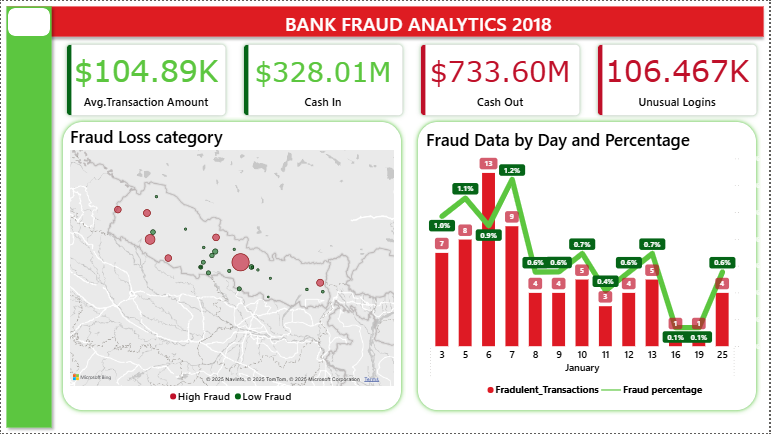

The page's visual inventory and layout, read from the dashboard file:
{"tool":"powerbi","page":{"name":"Customer behaviour","canvas":[1280,720],"ordinal":1},"visuals":[{"type":"cardVisual","fields":{"Data":["Fraud Dataset.Avg.Transaction Amount","Fraud Dataset.Cash In","Fraud Dataset.Cash Out","Sum(Fraud Dataset.unusual_login)"]},"box":[93.3,56.7,1185,150],"z":0},{"type":"shape","box":[687.1,192.9,581.4,497.1],"z":1000},{"type":"lineClusteredColumnComboChart","title":"Fraud Data by Day and  Percentage","fields":{"Y":["Fraud Dataset.Fradulent Transactions"],"Y2":["Fraud Dataset.Fraud percentage"],"Category":["Fraud Dataset.transaction_date.Variation.Date Hierarchy.Month","Fraud Dataset.transaction_date.Variation.Date Hierarchy.Day"]},"box":[705.7,211.4,555.7,457.1],"z":2000},{"type":"shape","box":[95,193.3,580,496.7],"z":3000},{"type":"map","title":"Fraud Loss category","fields":{"Category":["Fraud Dataset.branch"],"Size":["Fraud Dataset.Fraud Loss Amount"],"Series":["Fraud Dataset.Branch Fraud Category"]},"box":[110,206.7,550,473.3],"z":4000},{"type":"shape","box":[1.7,0,1278.3,68.3],"z":5000},{"type":"shape","box":[0,0,93.3,720],"z":6000},{"type":"shape","box":[11.7,11.7,70,46.7],"z":7000},{"type":"textbox","box":[468.3,10,460,58.3],"z":8000},{"type":"image","box":[4.1,0,81.2,68.8],"z":9000},{"type":"actionButton","box":[991.4,14.3,40,40],"z":10000},{"type":"actionButton","box":[332.9,14.3,40,40],"z":11000},{"type":"actionButton","box":[27.1,235.7,40,40],"z":12000},{"type":"actionButton","box":[27.1,340,40,40],"z":12001},{"type":"actionButton","box":[27.1,440,40,40],"z":12002}]}

Visuals, with their boxes in screenshot pixels (x1, y1, x2, y2), scaled from the page's 1280x720 canvas onto the 771x434 screenshot:
cardVisual - Fraud Dataset.Avg.Transaction Amount x Fraud Dataset.Cash In: left=56, top=34, right=770, bottom=125
shape: left=414, top=116, right=764, bottom=416
"Fraud Data by Day and  Percentage" lineClusteredColumnComboChart: left=425, top=127, right=760, bottom=403
shape: left=57, top=117, right=407, bottom=416
"Fraud Loss category" map: left=66, top=125, right=398, bottom=410
shape: left=1, top=0, right=770, bottom=41
shape: left=0, top=0, right=56, bottom=433
shape: left=7, top=7, right=49, bottom=35
textbox: left=282, top=6, right=559, bottom=41
image: left=2, top=0, right=51, bottom=41
actionButton: left=597, top=9, right=621, bottom=33
actionButton: left=201, top=9, right=225, bottom=33
actionButton: left=16, top=142, right=40, bottom=166
actionButton: left=16, top=205, right=40, bottom=229
actionButton: left=16, top=265, right=40, bottom=289
